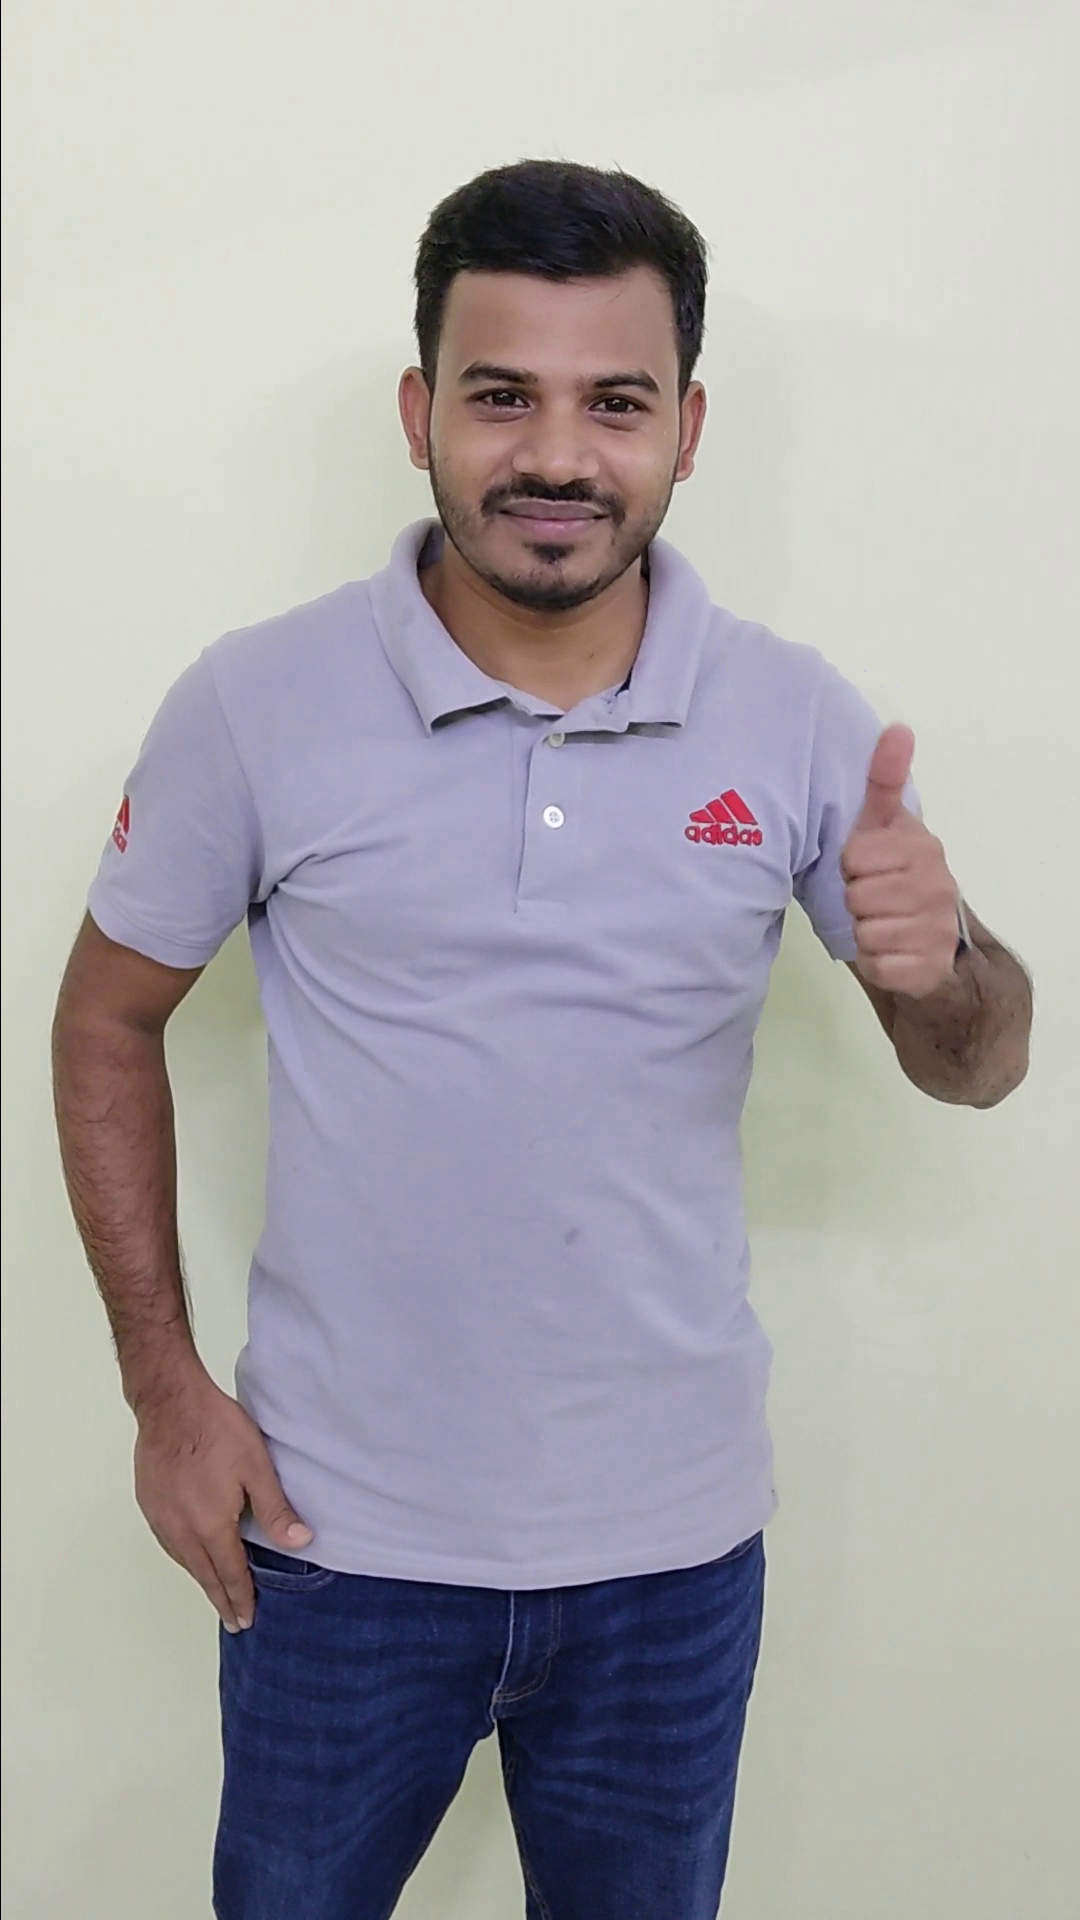Like: (796, 704, 1021, 1030)
None: (95, 1356, 316, 1646)
